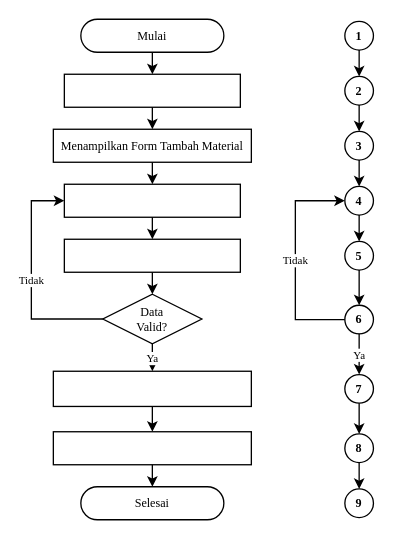
This 394x540 diagram has some shape labels left out. The shapes that lost their labels are listed below. From the top down, each one's centre as x and y in pixels, then its label:
At (151,90): "Akses Menu Data Material".
At (151,200): "Input Data Material".
At (151,255): "Validasi Data Material".
At (151,388): "Menyimpan Data ke Database".
At (151,448): "Menampilkan Pesan Berhasil".
